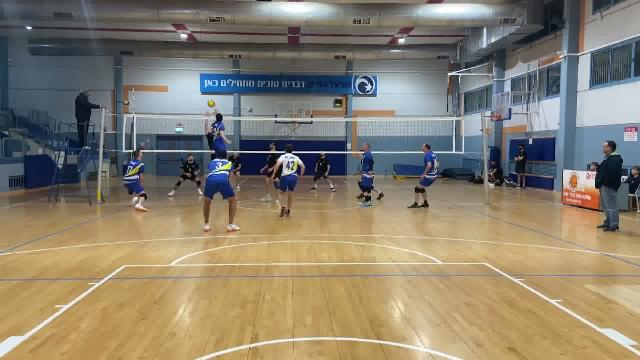ball: (204, 98, 216, 108)
